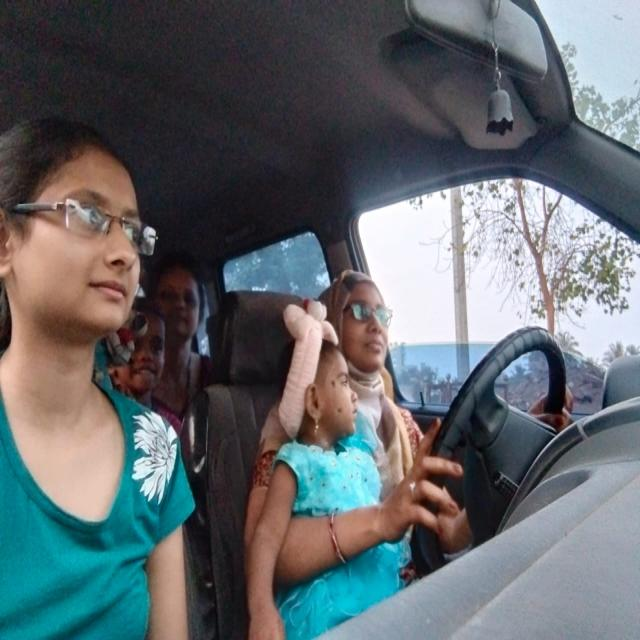child: (279, 330, 365, 440)
person: (6, 114, 150, 333), (336, 262, 396, 371), (158, 264, 208, 343), (132, 316, 169, 397)
